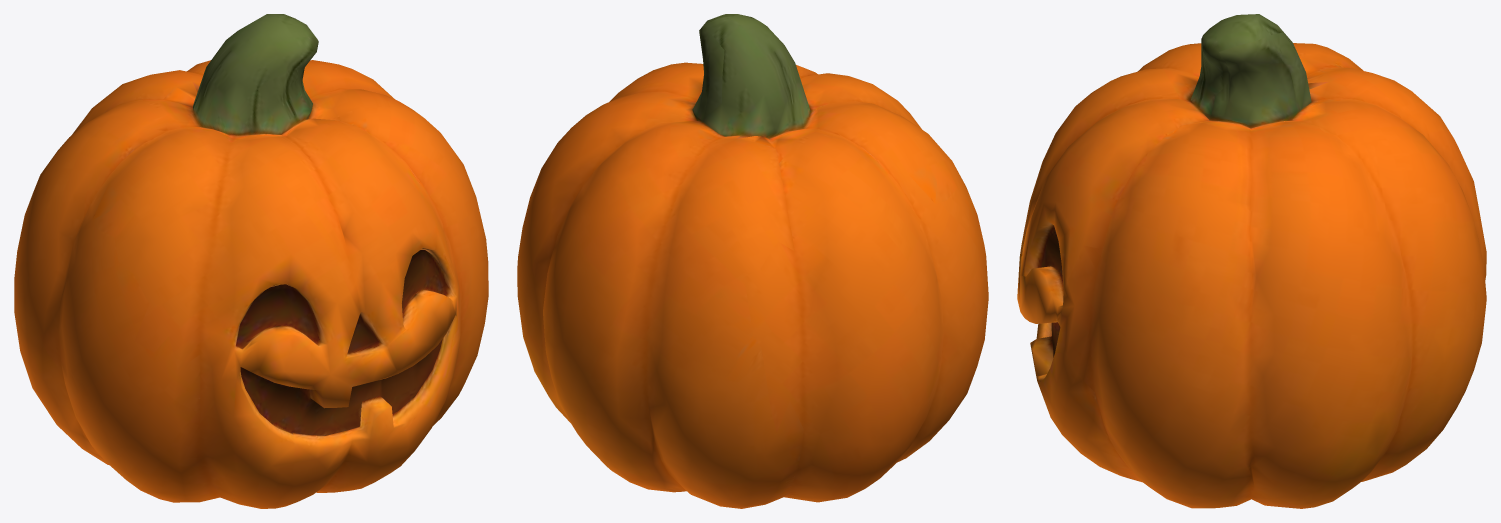
Rendered from halloweenlantern.glb.
The picture shows the model from 3 angles, left to right: view 1: azimuth 30°, elevation 25°; view 2: azimuth 150°, elevation 25°; view 3: azimuth 270°, elevation 25°; orthographic projection. The views are drawn at different scales.
Visible parts, largest first — view 1: model; view 2: model; view 3: model.
Boxes of the visible parts, bbox=[...] form: model: bbox=[14, 14, 488, 508]; model: bbox=[517, 14, 988, 508]; model: bbox=[1017, 14, 1486, 508].
Bounding box in the file's own units: 1.81 × 1.9 × 1.78.
Materials: 1 (1 with a texture image).
